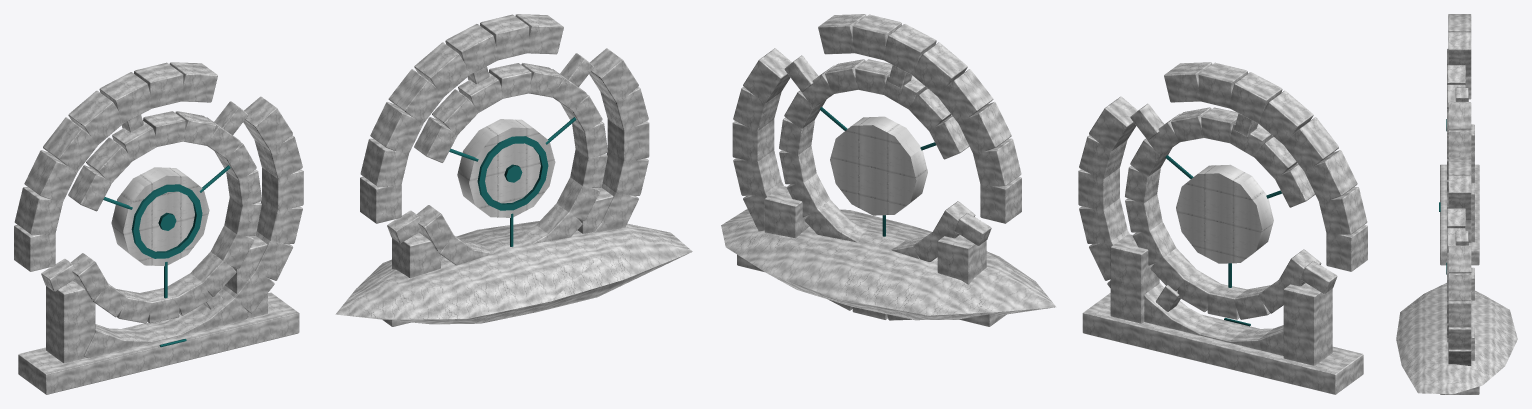
The picture shows the model from 3 angles, left to right: view 1: azimuth 30°, elevation 25°; view 2: azimuth 150°, elevation 25°; view 3: azimuth 270°, elevation 25°; orthographic projection. The views are drawn at different scales.
Parts seen in each view (by area): view 1: DL012_AncientRelicSet_relic_stone, DL012_AncientRelicSet_sediment, DL012_AncientRelicSet_metal_dark, DL012_AncientRelicSet_emissive_teal, DL012_AncientRelicSet_stone_blue; view 2: DL012_AncientRelicSet_relic_stone, DL012_AncientRelicSet_sediment, DL012_AncientRelicSet_metal_dark, DL012_AncientRelicSet_stone_blue, DL012_AncientRelicSet_emissive_teal; view 3: DL012_AncientRelicSet_relic_stone, DL012_AncientRelicSet_sediment, DL012_AncientRelicSet_stone_blue.
Part boxes in pixels (x1,y1,x2,y2): DL012_AncientRelicSet_relic_stone: (14, 14, 649, 394); DL012_AncientRelicSet_sediment: (335, 221, 692, 324); DL012_AncientRelicSet_metal_dark: (111, 119, 555, 266); DL012_AncientRelicSet_emissive_teal: (103, 117, 576, 347); DL012_AncientRelicSet_stone_blue: (41, 53, 593, 309); DL012_AncientRelicSet_relic_stone: (732, 14, 1367, 394); DL012_AncientRelicSet_sediment: (721, 209, 1056, 320); DL012_AncientRelicSet_metal_dark: (830, 116, 1273, 263); DL012_AncientRelicSet_stone_blue: (784, 55, 1337, 311); DL012_AncientRelicSet_emissive_teal: (819, 107, 1281, 326); DL012_AncientRelicSet_relic_stone: (1440, 14, 1479, 394); DL012_AncientRelicSet_sediment: (1396, 283, 1517, 394); DL012_AncientRelicSet_stone_blue: (1455, 87, 1468, 245).
Size of the model in its own units: 22.35 by 10.7 by 5.23.
5 materials, 4 textured.
